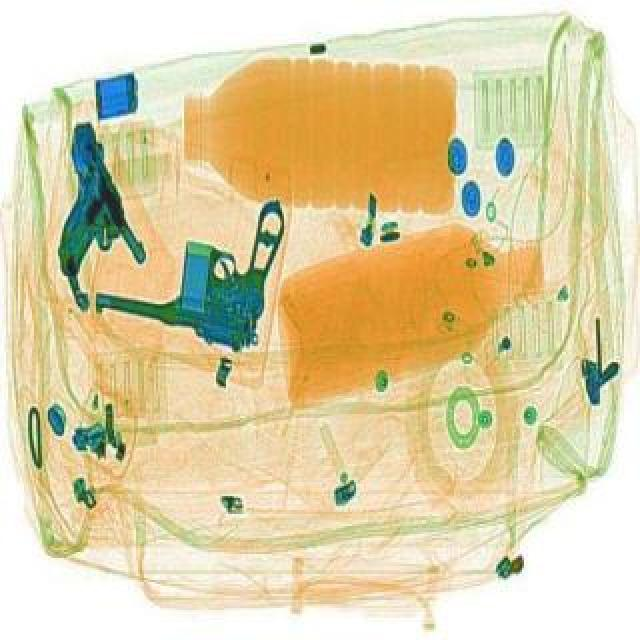gun: (86, 178, 290, 352), (4, 108, 162, 306)
